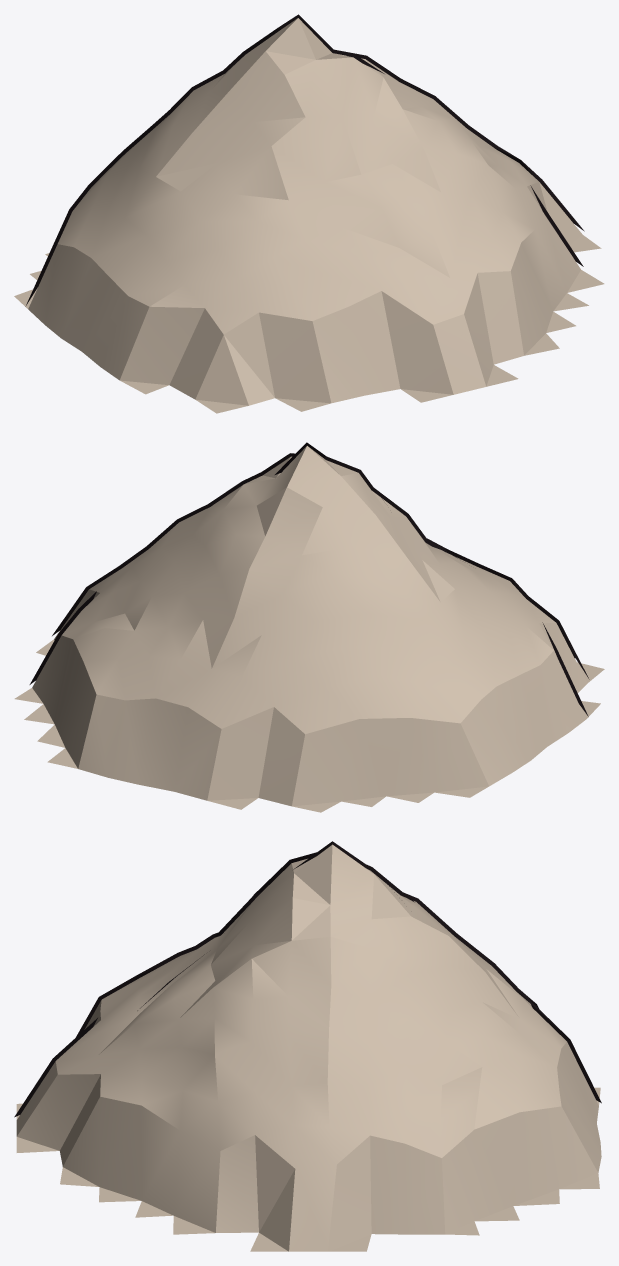
Rendered from SM_Cliff_07.fbx.
3 views of the same model, one above another, from view 1: azimuth 30°, elevation 25°; view 2: azimuth 150°, elevation 25°; view 3: azimuth 270°, elevation 25° (orthographic). The views are drawn at different scales.
Parts seen in each view (by area): view 1: SM_Cliff_07; view 2: SM_Cliff_07; view 3: SM_Cliff_07.
Part boxes in pixels (left/top/right/bottom): SM_Cliff_07: left=14, top=14, right=604, bottom=413; SM_Cliff_07: left=14, top=442, right=604, bottom=812; SM_Cliff_07: left=14, top=841, right=601, bottom=1251.
Bounding box in the file's own units: 7.71 × 3.94 × 7.6.
